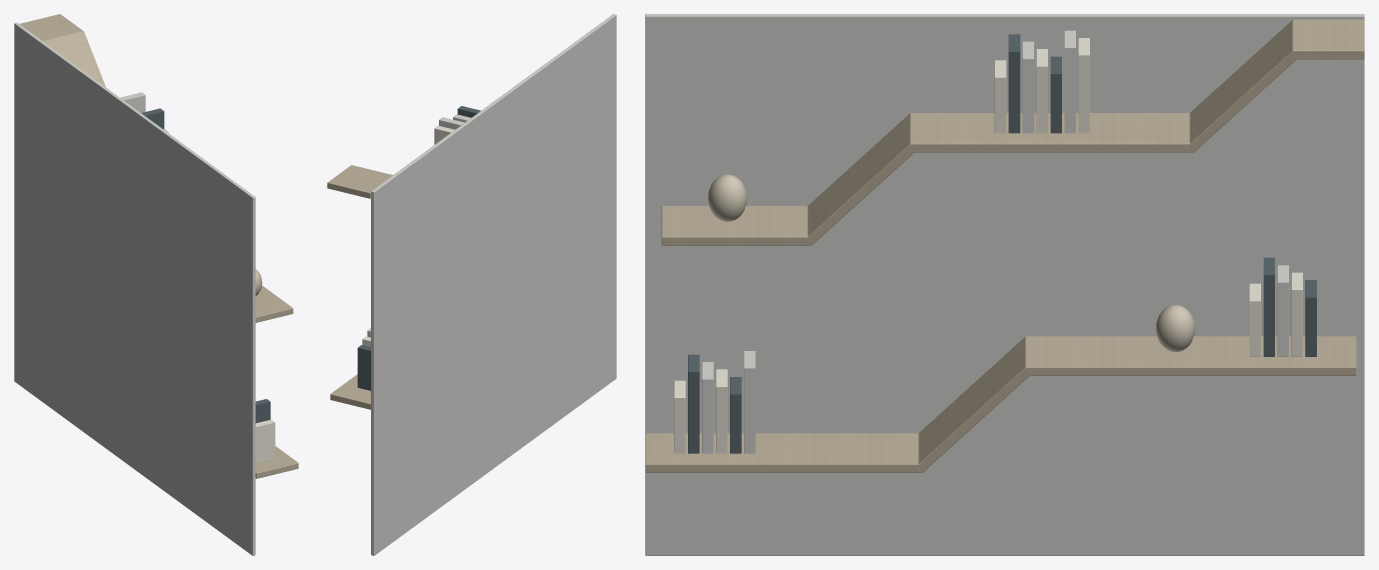
File: head-folded.glb
3 views of the same model, side by side, from view 1: azimuth 30°, elevation 25°; view 2: azimuth 150°, elevation 25°; view 3: azimuth 270°, elevation 25° (orthographic). The views are drawn at different scales.
Visible parts, largest first — view 1: Fold display backdrop, Continuous folded display 1, Display book, Continuous folded display 0; view 2: Fold display backdrop, Continuous folded display 1, Continuous folded display 0, Display book.010; view 3: Fold display backdrop, Continuous folded display 1, Continuous folded display 0, Small ceramic object, Small ceramic object.001, Display book.012, Display book.016, Display book.005, Display book.013, Display book.001, Display book.007, Display book.017 (+11 smaller).
Part boxes in pixels (left/top/right/bottom): Fold display backdrop: left=14, top=22, right=255, bottom=555; Continuous folded display 1: left=20, top=14, right=293, bottom=322; Display book: left=255, top=419, right=275, bottom=463; Continuous folded display 0: left=255, top=446, right=298, bottom=478; Fold display backdrop: left=371, top=14, right=616, bottom=555; Continuous folded display 1: left=327, top=165, right=392, bottom=198; Continuous folded display 0: left=330, top=374, right=370, bottom=409; Display book.010: left=357, top=345, right=370, bottom=390; Fold display backdrop: left=645, top=14, right=1364, bottom=555; Continuous folded display 1: left=661, top=19, right=1364, bottom=245; Continuous folded display 0: left=645, top=336, right=1356, bottom=472; Small ceramic object: left=1156, top=304, right=1195, bottom=352; Small ceramic object.001: left=708, top=174, right=747, bottom=221; Display book.012: left=1008, top=34, right=1020, bottom=133; Display book.016: left=1064, top=30, right=1075, bottom=133; Display book.005: left=744, top=351, right=755, bottom=453; Display book.013: left=1022, top=41, right=1034, bottom=133; Display book.001: left=688, top=354, right=699, bottom=453; Display book.007: left=1263, top=257, right=1274, bottom=356; Display book.017: left=1078, top=38, right=1089, bottom=133.
Bounding box in the file's own units: 0.196 × 1.45 × 1.75.
6 materials, 1 textured.
